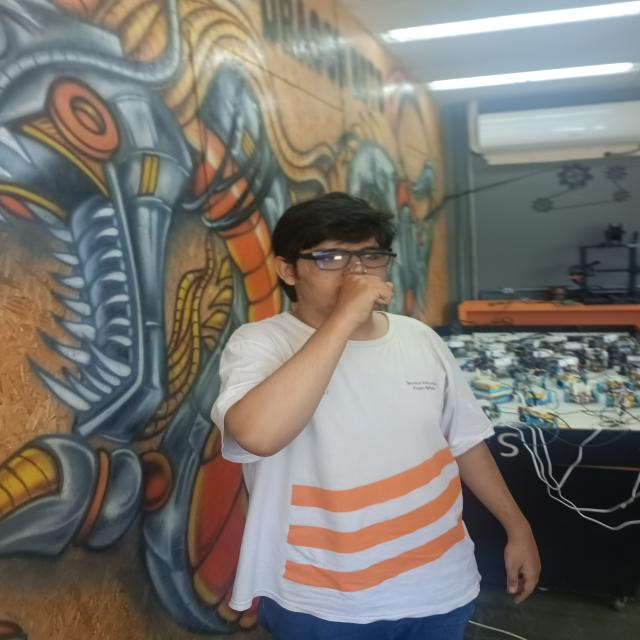oculos-epi: (299, 252, 397, 278)
